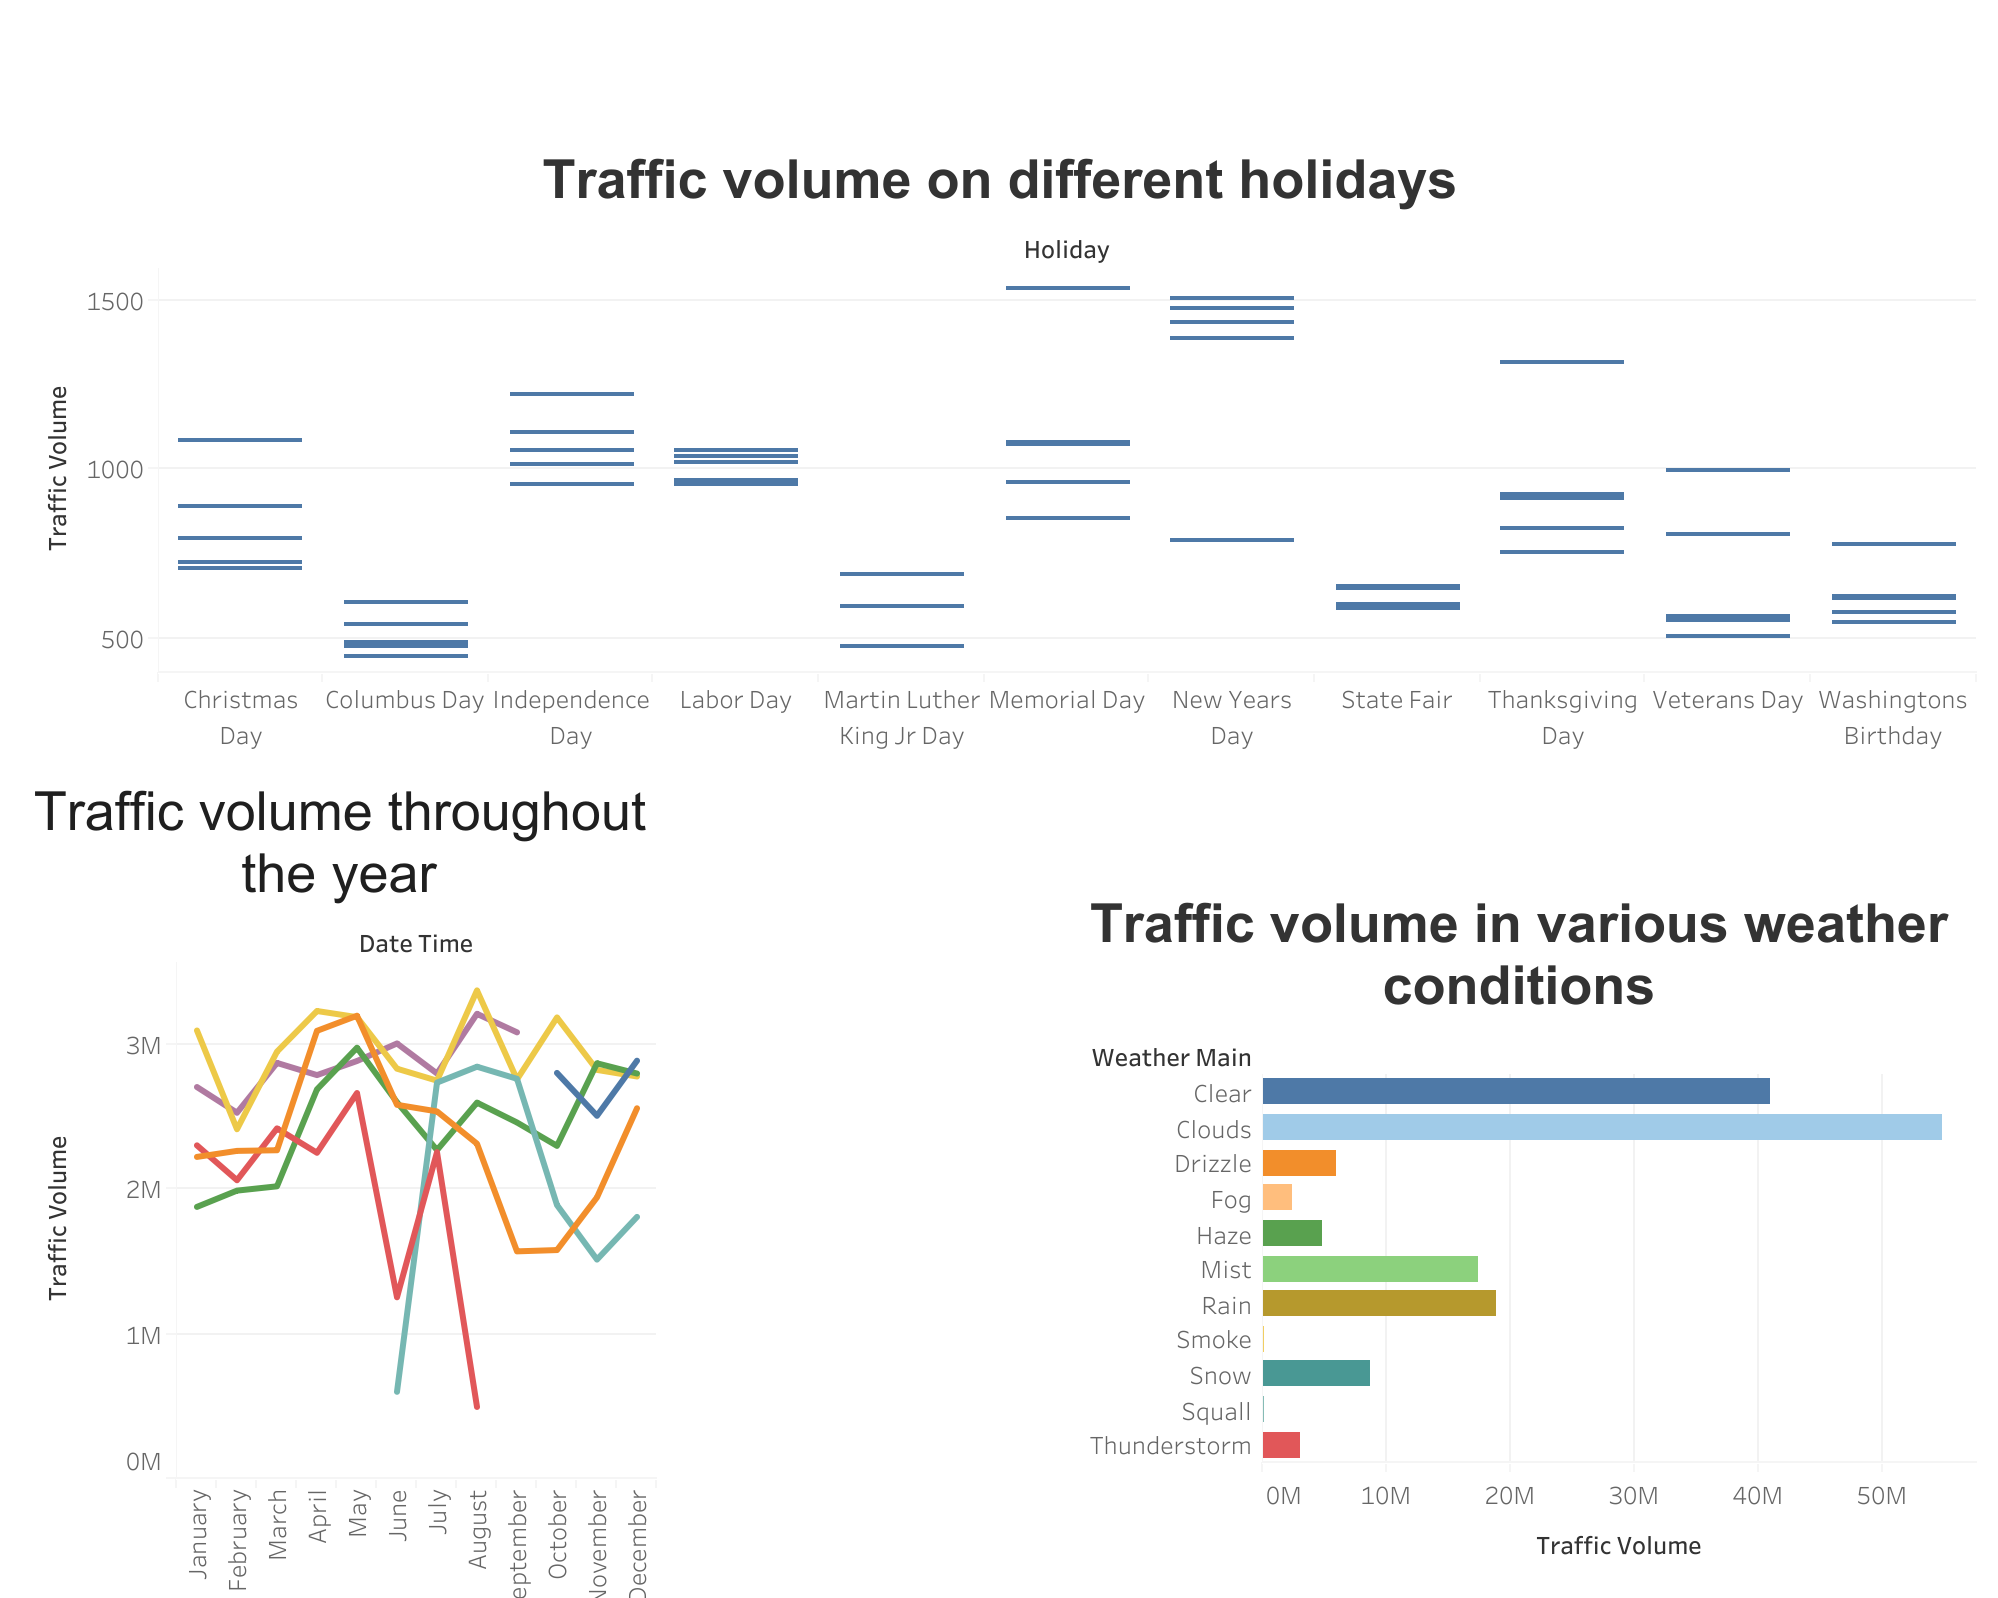

The page's visual inventory and layout, read from the dashboard file:
{"tool":"tableau","page":{"name":"Dashboard 1","canvas":[1000,800],"ordinal":0},"visuals":[{"type":"worksheet","title":"Sheet 3","mark":"Automatic","rows":["traffic_volume"],"cols":["holiday"],"box":[8,8,984,372]},{"type":"worksheet","title":"Sheet 1","mark":"Automatic","rows":["traffic_volume"],"cols":["date_time"],"box":[8,380,519,412]},{"type":"worksheet","title":"Sheet 2","mark":"Automatic","rows":["weather_main"],"cols":["traffic_volume"],"box":[527,380,465,412]}]}

Visuals, with their boxes in screenshot pixels (x1, y1, x2, y2), scaled from the page's 1000x800 canvas onto the 1998x1598 screenshot:
"Sheet 3" worksheet: region(16, 16, 1982, 759)
"Sheet 1" worksheet: region(16, 759, 1053, 1582)
"Sheet 2" worksheet: region(1053, 759, 1982, 1582)
